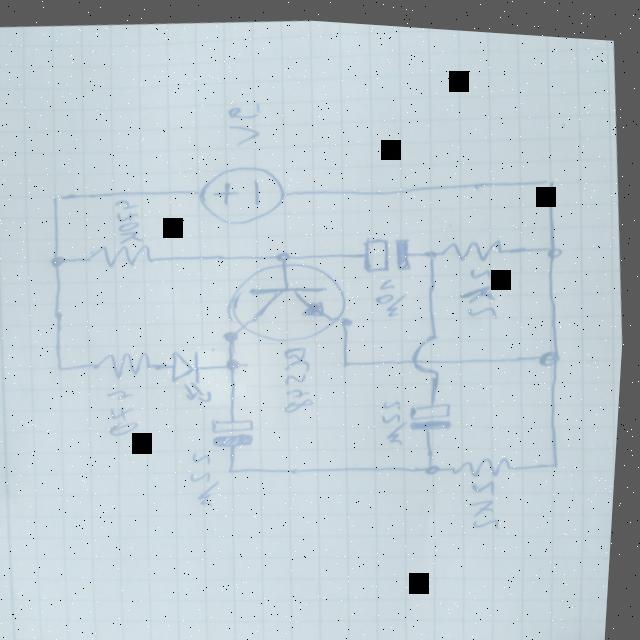capacitor: (362, 228, 416, 271), (213, 411, 261, 449), (410, 393, 457, 427)
crossover: (408, 323, 450, 377)
diode: (171, 343, 220, 403)
junction: (539, 339, 569, 362), (546, 446, 571, 466), (271, 243, 295, 262), (224, 352, 246, 371), (545, 233, 567, 252), (222, 324, 243, 341), (426, 455, 447, 472), (50, 252, 70, 269), (540, 166, 560, 183), (339, 309, 358, 326), (341, 350, 359, 365), (227, 458, 245, 472), (50, 189, 67, 203), (56, 359, 72, 373), (425, 242, 439, 254)
resistor: (437, 227, 514, 261), (85, 237, 161, 271), (92, 345, 159, 382), (451, 444, 524, 475)
source: (194, 154, 292, 227)
text: (281, 338, 322, 411), (456, 258, 504, 317), (190, 446, 228, 507), (469, 468, 508, 526), (223, 96, 266, 148), (107, 384, 145, 436), (112, 193, 150, 244), (381, 391, 413, 442), (372, 270, 408, 315)
transistor: (221, 249, 356, 347)
